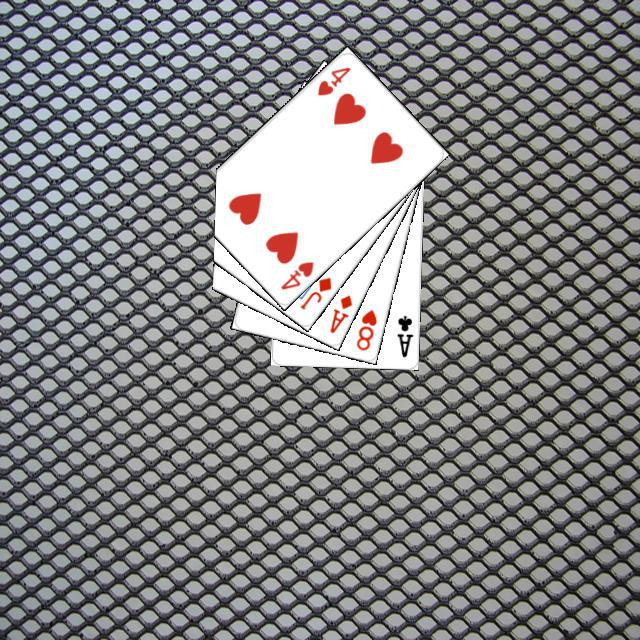4h: (275, 256, 315, 292), (313, 62, 352, 98)
8h: (351, 305, 378, 352)
Ac: (392, 311, 415, 359)
Ad: (325, 290, 354, 335)
Jd: (295, 272, 333, 311)
